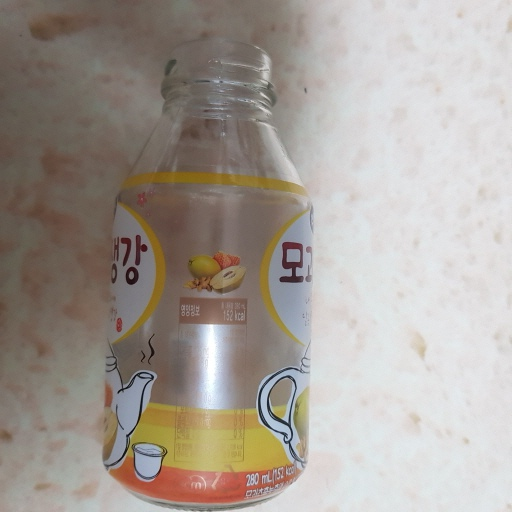Glass_4: (101, 32, 322, 503)
